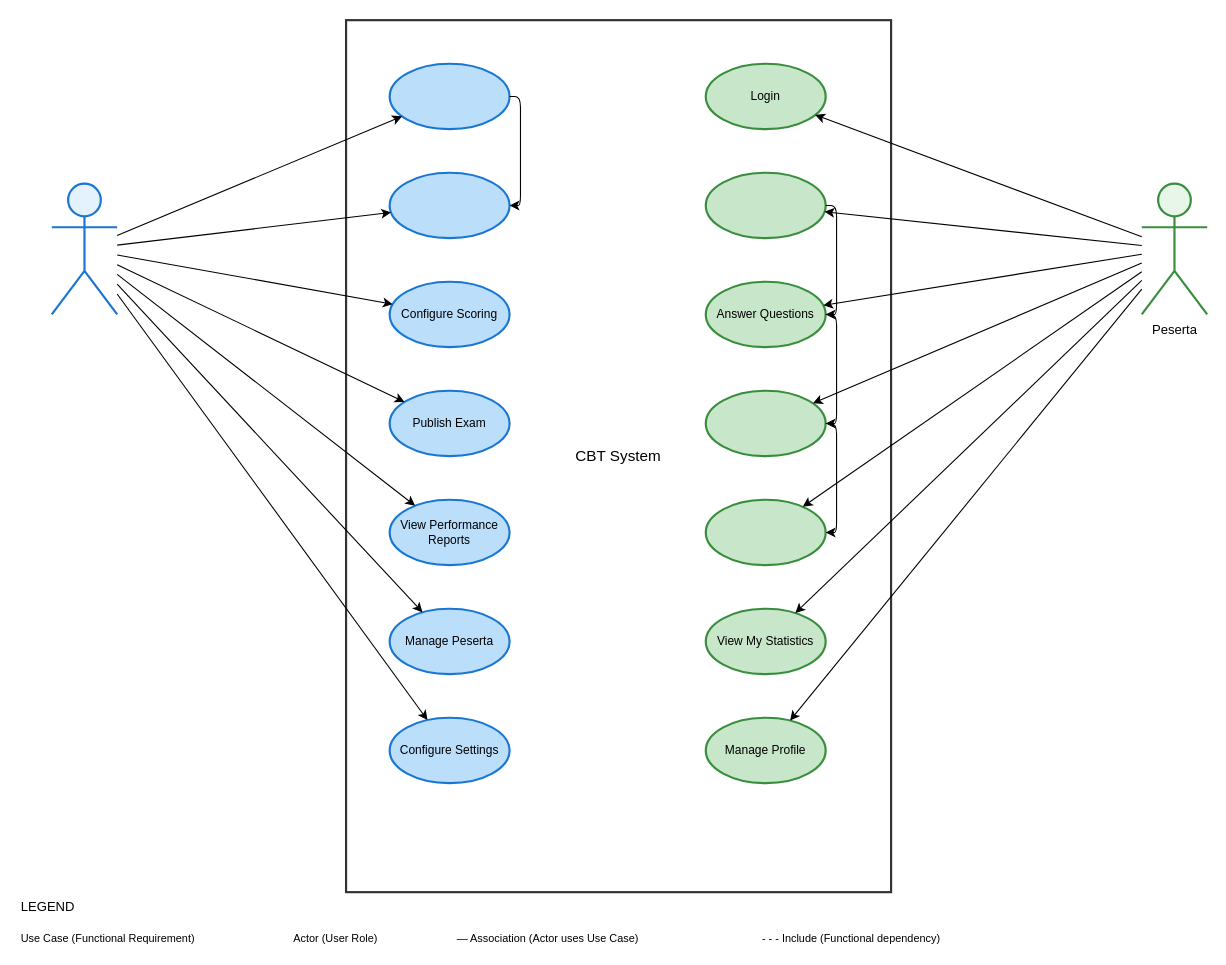
This 1226x965 diagram has some shape labels left out. The shapes that lost their labels are listed below. From the top down, each one's box as (x1, y1, x2, y2) in pixels, then its label:
(388, 62, 510, 130): Create Exam
(388, 171, 510, 239): Add / Import Questions
(704, 171, 826, 239): View Available Exams
(50, 182, 118, 315): Admin
(704, 389, 826, 457): Submit Exam
(704, 498, 826, 566): View Results
